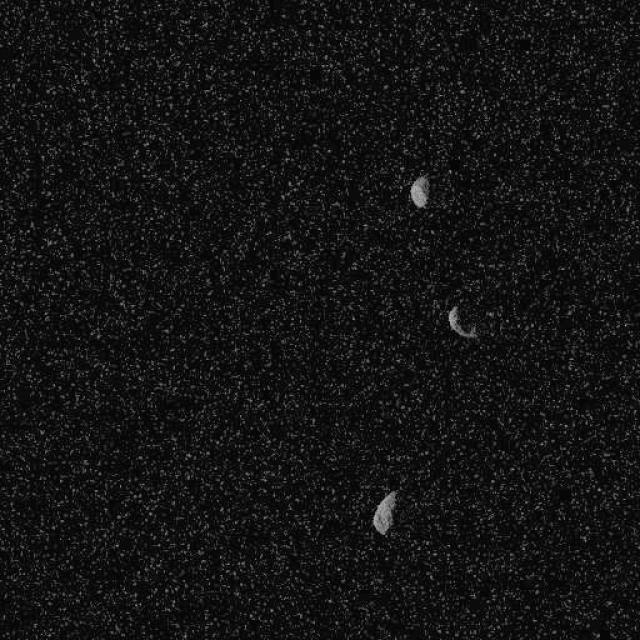D2: (372, 489, 398, 535), (447, 304, 478, 338), (409, 174, 430, 208)
